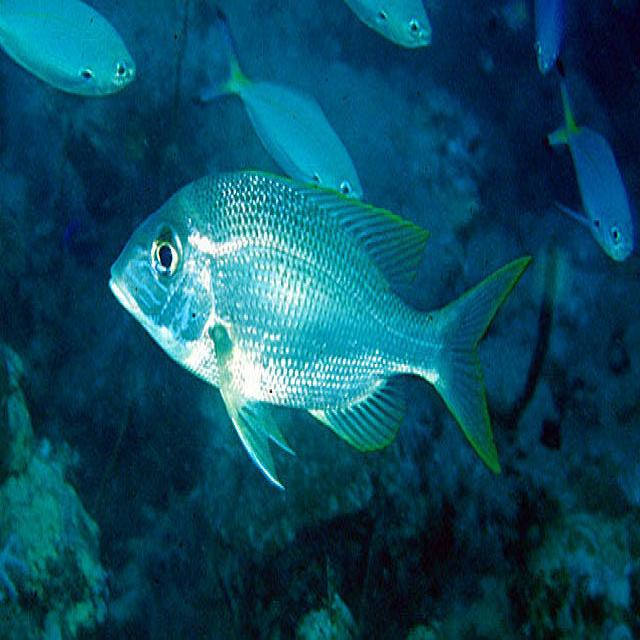ikan: (94, 143, 510, 490)
